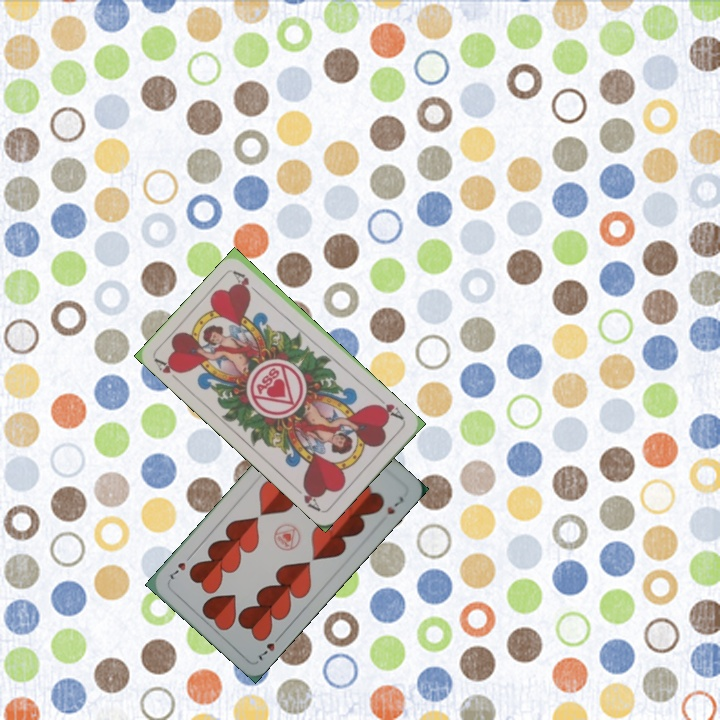H7: (254, 630, 285, 664)
HA: (370, 393, 407, 423), (151, 355, 185, 386)
